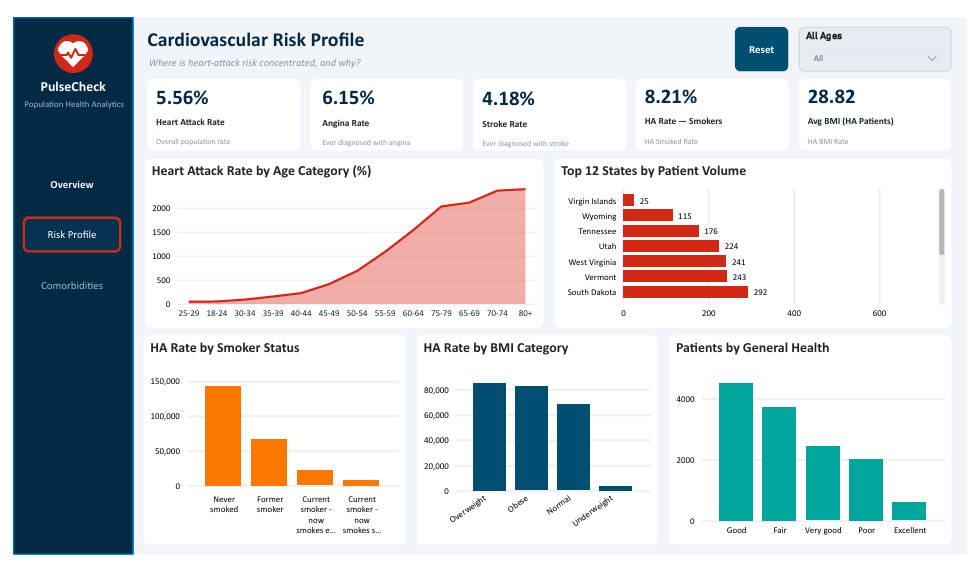

Layout of this report page (visuals, bound fields, positions):
{"tool":"powerbi","page":{"name":"Risk Profile","canvas":[1280,720],"ordinal":1},"visuals":[{"type":"group","id":"g1","title":"Group 3","box":[0,0,159.6,720],"z":0},{"type":"shape","box":[0,0,159.6,720],"z":0,"group":"g1"},{"type":"group","id":"g2","title":"Group 1","box":[53.3,21.6,51.8,51.8],"z":0,"group":"g3"},{"type":"shape","box":[53.3,21.6,51.8,51.8],"z":0,"group":"g2"},{"type":"shape","box":[178.6,82.1,205.9,96.5],"z":0,"group":"g4"},{"type":"multiRowCard","fields":{"Values":["_Measures.HA_Rate_(Smokers_Combined)"]},"box":[842.4,82.1,188.6,44.3],"z":0,"group":"g12"},{"type":"multiRowCard","fields":{"Values":["_Measures.HA_Rate_(BMI)"]},"box":[1061.3,82.1,188.6,44.3],"z":0,"group":"g13"},{"type":"multiRowCard","fields":{"Values":["_Measures.Heart_Attack_Rate"]},"box":[185.8,82.9,188.6,44.3],"z":0,"group":"g9"},{"type":"multiRowCard","fields":{"Values":["_Measures.Angina_Rate"]},"box":[409,84.4,188.6,44.3],"z":0,"group":"g10"},{"type":"multiRowCard","fields":{"Values":["_Measures.Stroke_Rate"]},"box":[623.5,85,188.6,44.3],"z":0,"group":"g11"},{"type":"group","id":"g3","title":"Group 2","box":[11.5,21.6,135.4,86.4],"z":1000,"group":"g1"},{"type":"image","box":[59.1,28.8,38.9,38.9],"z":1000,"group":"g2"},{"type":"textbox","box":[11.5,74.9,135.4,33.1],"z":1000,"group":"g3"},{"type":"shape","box":[398.2,82.3,204.9,95.7],"z":1000,"group":"g5"},{"type":"textbox","box":[9,100,148.3,27.4],"z":1000},{"type":"textbox","box":[842.4,124.2,188.6,27.1],"z":1000,"group":"g12"},{"type":"textbox","box":[1061.3,124.2,188.6,27.1],"z":1000,"group":"g13"},{"type":"textbox","box":[185.8,125,188.6,27.1],"z":1000,"group":"g9"},{"type":"textbox","box":[409,126.5,188.6,27.1],"z":1000,"group":"g10"},{"type":"textbox","box":[623.5,127.1,188.6,27.1],"z":1000,"group":"g11"},{"type":"group","id":"g4","title":"Group 5","box":[178.6,82.1,205.9,96.5],"z":2000},{"type":"shape","box":[616.8,82.3,204.9,95.7],"z":2000,"group":"g6"},{"type":"textbox","box":[842.4,150,188.6,27.1],"z":2000,"group":"g12"},{"type":"textbox","box":[1061.3,150,188.6,27.1],"z":2000,"group":"g13"},{"type":"textbox","box":[185.8,150.8,188.6,27.1],"z":2000,"group":"g9"},{"type":"textbox","box":[409,152.3,188.6,27.1],"z":2000,"group":"g10"},{"type":"textbox","box":[623.5,152.9,188.6,27.1],"z":2000,"group":"g11"},{"type":"actionButton","box":[11.5,200.2,132.5,47.5],"z":2000,"group":"g1"},{"type":"group","id":"g5","title":"Group 6","box":[398.2,82.3,204.9,97.2],"z":3000},{"type":"shape","box":[835.4,82.3,204.9,95.7],"z":3000,"group":"g7"},{"type":"actionButton","box":[11.5,267.4,132.5,47.5],"z":3000,"group":"g1"},{"type":"shape","box":[1054.1,82.1,204.5,96.5],"z":4000,"group":"g8"},{"type":"group","id":"g6","title":"Group 7","box":[616.8,82.3,204.9,97.7],"z":4000},{"type":"actionButton","box":[11.5,334.6,132.5,47.5],"z":4000,"group":"g1"},{"type":"group","id":"g7","title":"Group 8","box":[835.4,82.1,204.9,96],"z":5000},{"type":"group","id":"g8","title":"Group 9","box":[1054.1,82.1,204.5,96.5],"z":6000},{"type":"textbox","box":[174.2,7.7,843.3,43],"z":7000},{"type":"textbox","box":[175.8,44.7,844.9,28.6],"z":8000},{"type":"slicer","title":"All Ages","fields":{"Values":["Sheet1.Age Group Formatted"]},"box":[1054.1,11.5,204.5,60.5],"z":9000},{"type":"actionButton","box":[967.7,11.5,72,60.5],"z":10000},{"type":"lineChart","title":"Heart Attack Rate by Age Category (%)","fields":{"Category":["Sheet1.Age Group Formatted"],"Y":["Sum(Sheet1.HadHeartAttack)"]},"box":[175.7,189.4,535.7,226.1],"z":11000},{"type":"group","id":"g9","title":"Group 4","box":[185.8,82.9,188.6,95],"z":11003,"group":"g4"},{"type":"group","id":"g10","title":"Group 4","box":[409,84.4,188.6,95],"z":11004,"group":"g5"},{"type":"group","id":"g11","title":"Group 4","box":[623.5,85,188.6,95],"z":11005,"group":"g6"},{"type":"group","id":"g12","title":"Group 4","box":[842.4,82.1,188.6,95],"z":11006,"group":"g7"},{"type":"group","id":"g13","title":"Group 4","box":[1061.3,82.1,188.6,95],"z":11007,"group":"g8"},{"type":"clusteredBarChart","title":"Top 12 States by Patient Volume","fields":{"Category":["Sheet1.State"],"Y":["Sum(Sheet1.HadHeartAttack)"]},"box":[725.8,189.4,532.8,226.1],"z":12000},{"type":"columnChart","title":"HA Rate by Smoker Status","fields":{"Y":["CountNonNull(Sheet1.PatientID)"],"Category":["Sheet1.SmokerStatus"]},"box":[174.2,426.2,351.4,280.8],"z":13000},{"type":"columnChart","title":"HA Rate by BMI Category","fields":{"Y":["CountNonNull(Sheet1.PatientID)"],"Category":["Sheet1.BMI_Category_Measure"]},"box":[541.4,426.2,322.6,280.8],"z":14000},{"type":"columnChart","title":"Patients by General Health","fields":{"Category":["Sheet1.GeneralHealth"],"Y":["Sum(Sheet1.HadHeartAttack)"]},"box":[879.8,426.2,378.7,280.8],"z":15000}]}

Visuals, with their boxes on the page's 1280x720 design canvas (x1, y1, x2, y2). These are canvas units, not pixel positions in the 979x565 screenshot, which may show the page scaled, cropped or inside an application window:
"Group 3" group: 0/0/160/720
shape: 0/0/160/720
"Group 1" group: 53/22/105/73
shape: 53/22/105/73
shape: 179/82/384/179
multiRowCard - _Measures.HA_Rate_(Smokers_Combined): 842/82/1031/126
multiRowCard - _Measures.HA_Rate_(BMI): 1061/82/1250/126
multiRowCard - _Measures.Heart_Attack_Rate: 186/83/374/127
multiRowCard - _Measures.Angina_Rate: 409/84/598/129
multiRowCard - _Measures.Stroke_Rate: 624/85/812/129
"Group 2" group: 12/22/147/108
image: 59/29/98/68
textbox: 12/75/147/108
shape: 398/82/603/178
textbox: 9/100/157/127
textbox: 842/124/1031/151
textbox: 1061/124/1250/151
textbox: 186/125/374/152
textbox: 409/126/598/154
textbox: 624/127/812/154
"Group 5" group: 179/82/384/179
shape: 617/82/822/178
textbox: 842/150/1031/177
textbox: 1061/150/1250/177
textbox: 186/151/374/178
textbox: 409/152/598/179
textbox: 624/153/812/180
actionButton: 12/200/144/248
"Group 6" group: 398/82/603/180
shape: 835/82/1040/178
actionButton: 12/267/144/315
shape: 1054/82/1259/179
"Group 7" group: 617/82/822/180
actionButton: 12/335/144/382
"Group 8" group: 835/82/1040/178
"Group 9" group: 1054/82/1259/179
textbox: 174/8/1018/51
textbox: 176/45/1021/73
"All Ages" slicer: 1054/12/1259/72
actionButton: 968/12/1040/72
"Heart Attack Rate by Age Category (%)" lineChart: 176/189/711/416
"Group 4" group: 186/83/374/178
"Group 4" group: 409/84/598/179
"Group 4" group: 624/85/812/180
"Group 4" group: 842/82/1031/177
"Group 4" group: 1061/82/1250/177
"Top 12 States by Patient Volume" clusteredBarChart: 726/189/1259/416
"HA Rate by Smoker Status" columnChart: 174/426/526/707
"HA Rate by BMI Category" columnChart: 541/426/864/707
"Patients by General Health" columnChart: 880/426/1258/707
